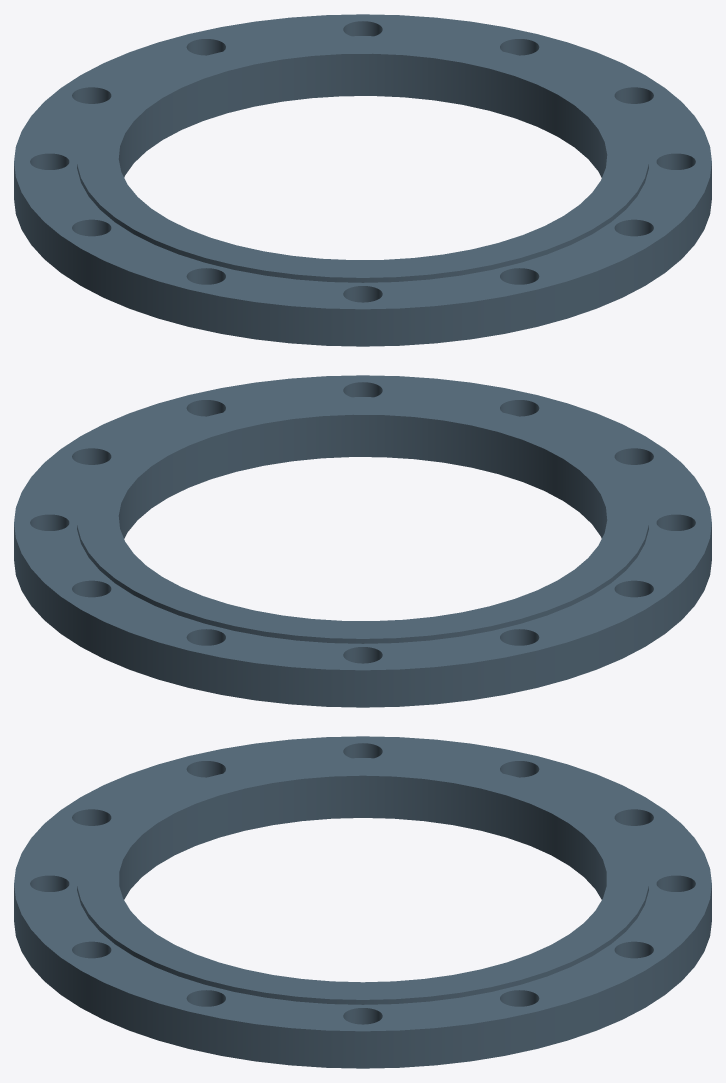
The model's file is flanec-ploskij-DN250-PN10.glb.
The picture shows the model from 3 angles, top to bottom: view 1: azimuth 30°, elevation 25°; view 2: azimuth 150°, elevation 25°; view 3: azimuth 270°, elevation 25°; orthographic projection.
Parts seen in each view (by area): view 1: Open CASCADE STEP translator 7.9 37; view 2: Open CASCADE STEP translator 7.9 37; view 3: Open CASCADE STEP translator 7.9 37.
Part boxes in pixels (x1=…): Open CASCADE STEP translator 7.9 37: x1=14, y1=14, x2=711, y2=346; Open CASCADE STEP translator 7.9 37: x1=14, y1=375, x2=711, y2=707; Open CASCADE STEP translator 7.9 37: x1=14, y1=736, x2=711, y2=1068.
Bounding box in the file's own units: 390 × 26 × 390.
